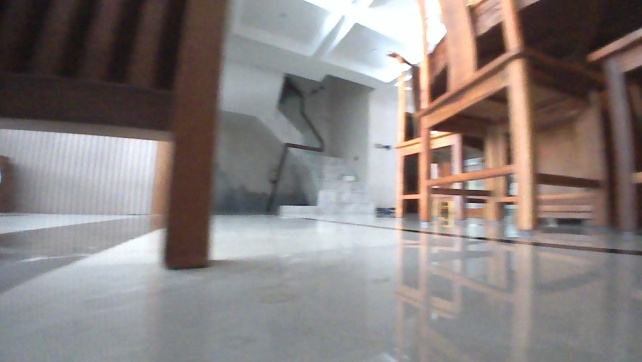dining_table: (383, 0, 641, 232)
